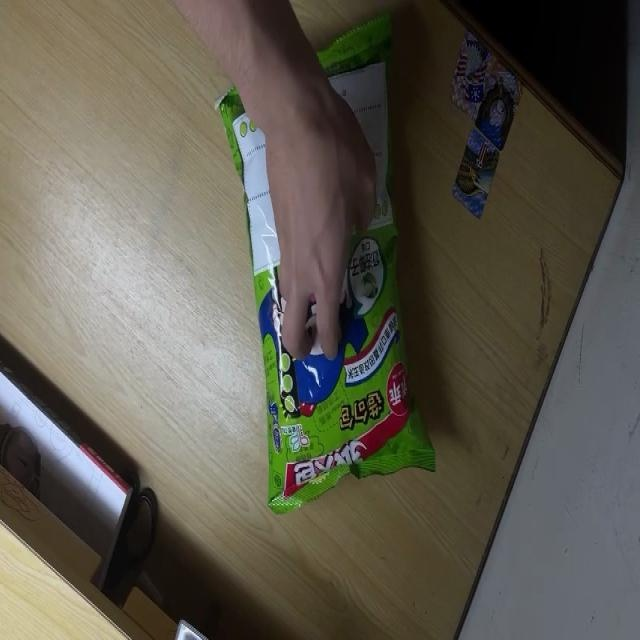Good-Luck: (215, 16, 437, 517)
